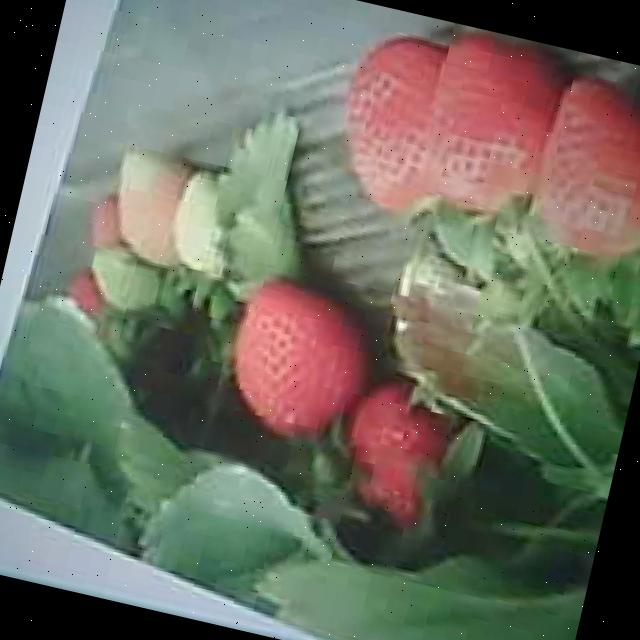strawberry: (410, 28, 572, 222), (220, 278, 380, 452), (520, 68, 640, 266), (102, 145, 208, 271), (166, 168, 252, 283), (82, 246, 166, 320)
